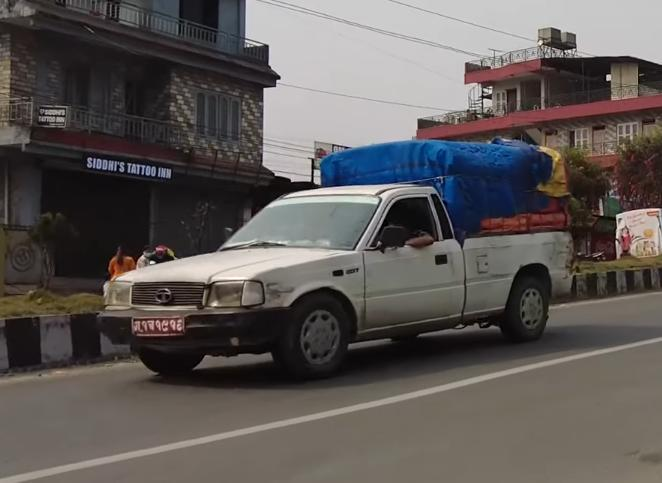transport_vehicle: (94, 130, 580, 390)
